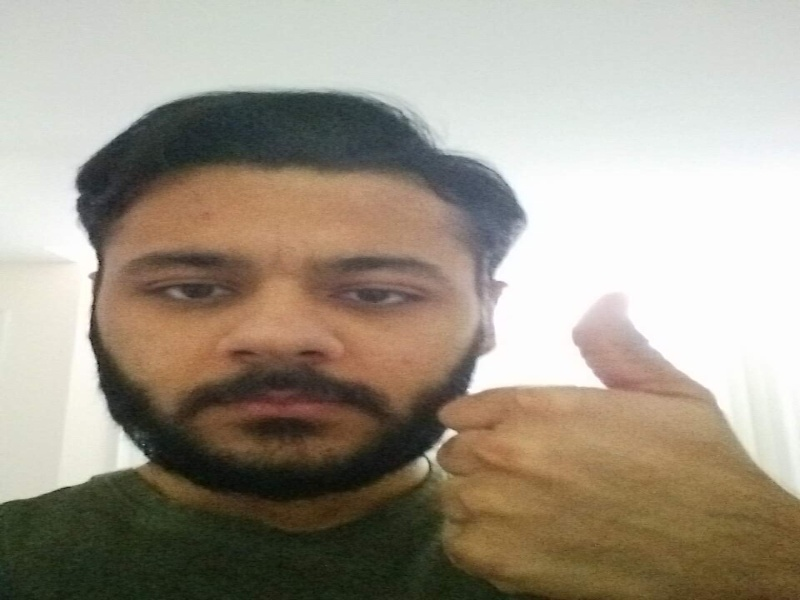thumbup: (439, 291, 745, 600)
